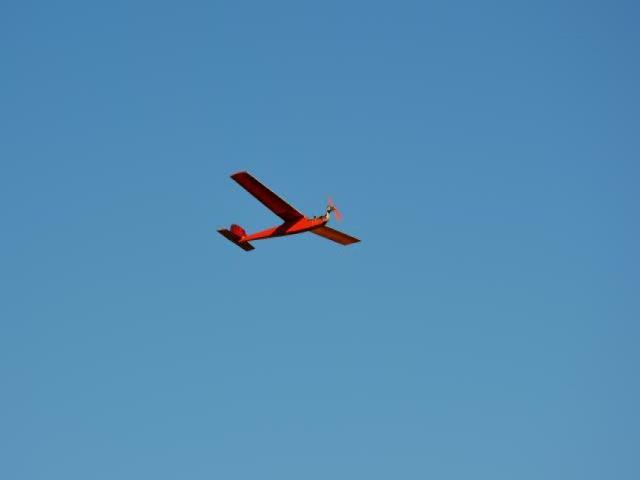iha: (208, 172, 360, 254)
